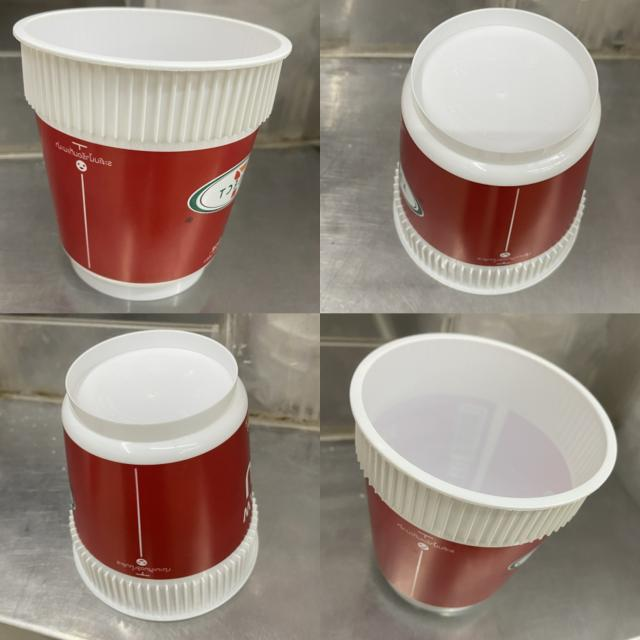plastik: (13, 8, 292, 300), (350, 334, 617, 612), (393, 8, 601, 294), (62, 330, 258, 620)
